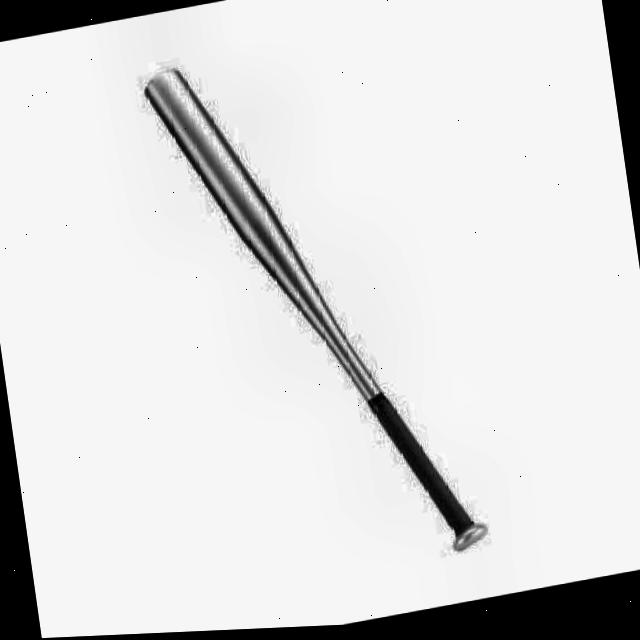tongkat pemukul: (128, 4, 513, 615)
